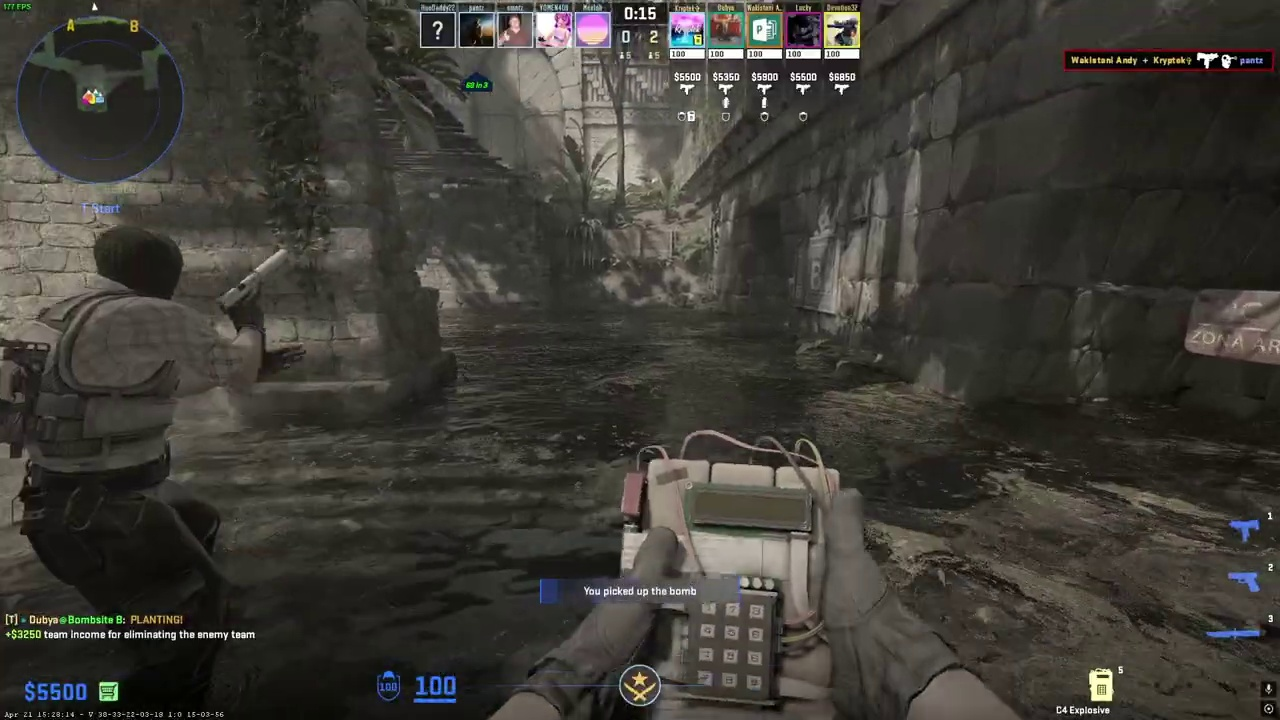Terrorist: (0, 225, 263, 720)
